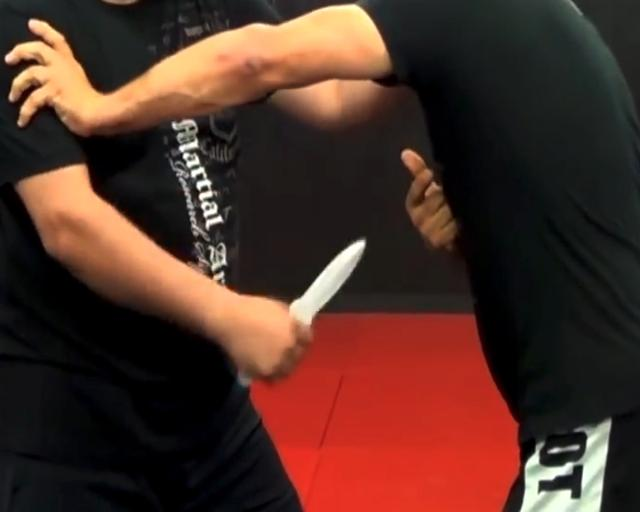pocket-knife: (243, 234, 367, 402)
